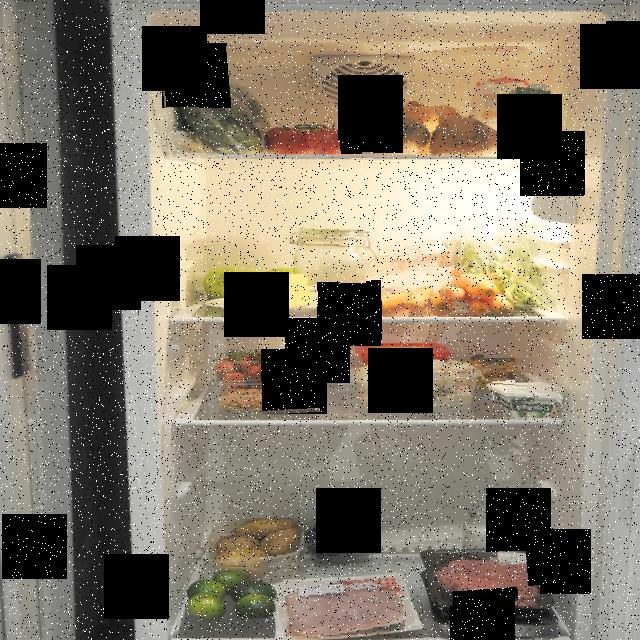apple: (202, 268, 306, 298)
blueberries: (304, 517, 374, 563)
butter: (356, 341, 456, 368)
carrot: (433, 276, 516, 318), (368, 291, 432, 317)
cheese: (225, 274, 318, 306)
corn: (471, 358, 515, 394)
flour: (288, 222, 371, 304), (367, 240, 462, 302)
goat_cheese: (487, 382, 562, 418)
green_beans: (448, 222, 556, 314)
ground_beef: (430, 558, 540, 608)
ham: (284, 588, 408, 640)
heavy_cream: (511, 84, 551, 156)
lime: (185, 566, 283, 618)
mushrooms: (353, 353, 483, 413)
onion: (390, 102, 464, 132)
potato: (214, 518, 304, 576)
shrimp: (220, 390, 320, 418)
spinach: (160, 46, 274, 160)
strawberries: (212, 350, 312, 386)
sugar: (468, 73, 530, 158), (464, 498, 530, 562)
sweet_potato: (350, 110, 506, 160)
tomato: (260, 118, 362, 154)
